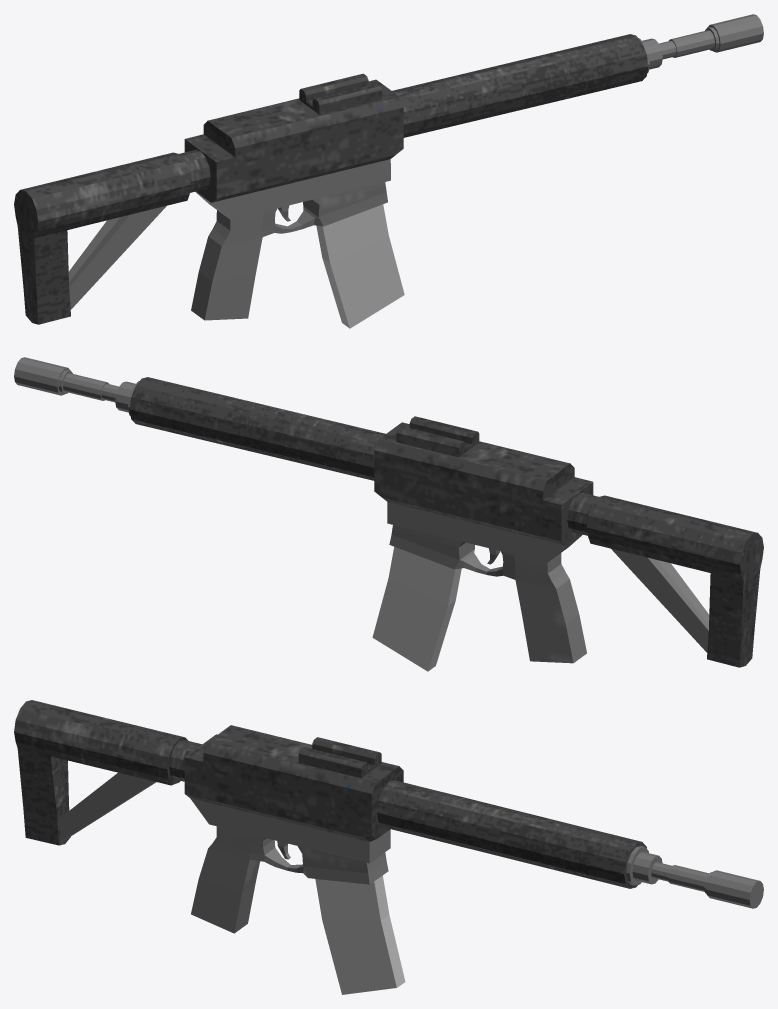
Rendered from Assault Rifle.fbx.
3 renders of one model, top to bottom at view 1: azimuth 30°, elevation 25°; view 2: azimuth 150°, elevation 25°; view 3: azimuth 330°, elevation 25°, orthographic.
Visible parts, largest first — view 1: gun body, Stock, Barrel; view 2: gun body, Stock, Barrel; view 3: gun body, Barrel, Stock.
Part boxes in pixels (box(x1,y1,x2,y2)): gun body: box(184, 73, 404, 328); Stock: box(14, 150, 210, 324); Barrel: box(392, 14, 763, 137); gun body: box(372, 416, 593, 671); Stock: box(567, 493, 763, 667); Barrel: box(14, 357, 385, 480); gun body: box(184, 725, 405, 994); Barrel: box(377, 780, 763, 908); Stock: box(14, 700, 201, 845).
Size of the model in its own units: 397 by 124 by 29.92.
